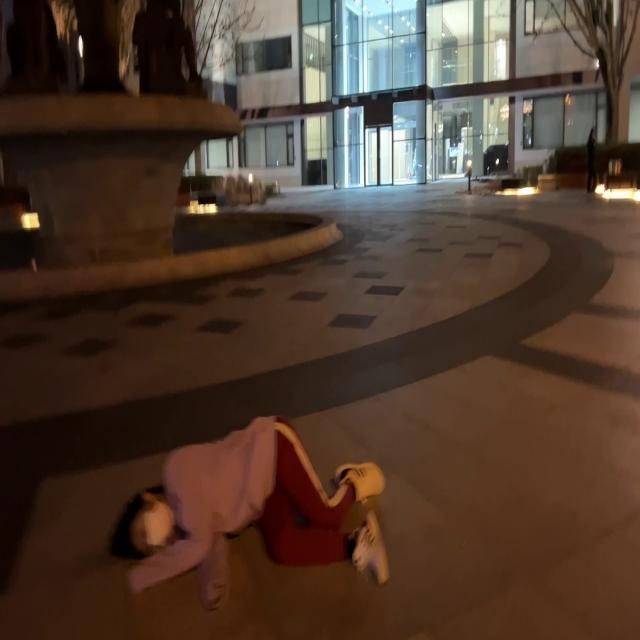Fall: (110, 417, 390, 610)
